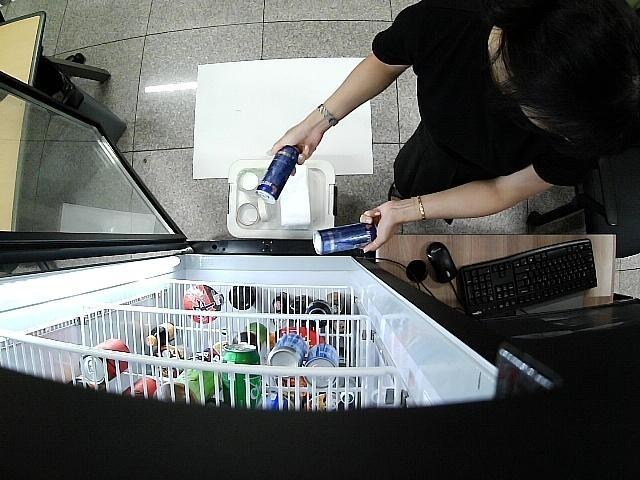16_hot6: (257, 145, 301, 207), (314, 222, 378, 257)
